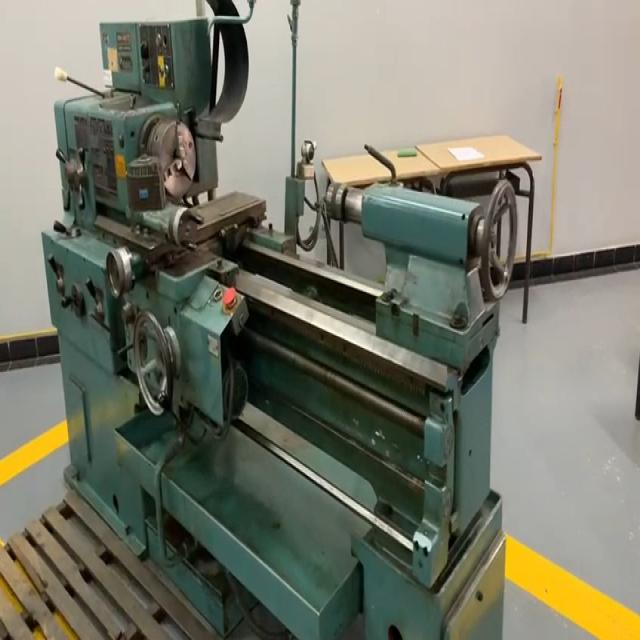tour parallele: (40, 0, 517, 640)
